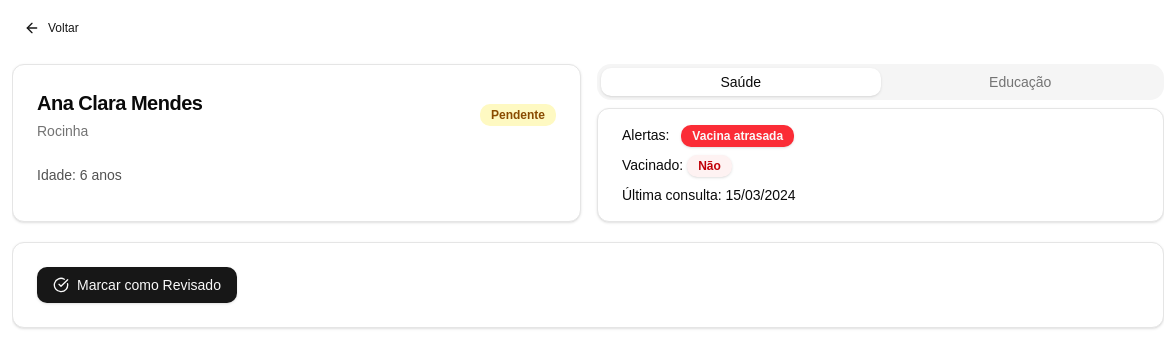
Test: ChildDetail › renders Education area section when tab is clicked
The width and height of the screenshot is (1164, 346).
Click the tab "Educação": x=1020, y=82 x1=880 y1=68 x2=1160 y2=96
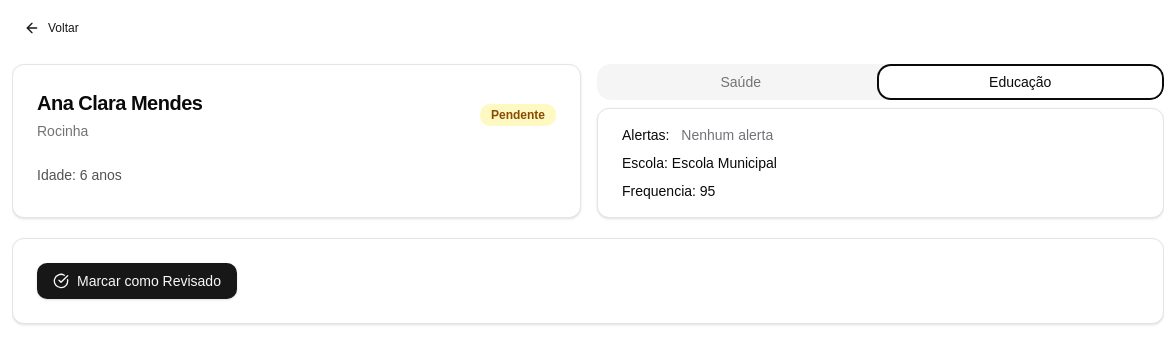
Check: the text "Escola: Escola Municipal" is shown, box x1=622 y1=155 x2=777 y2=171
